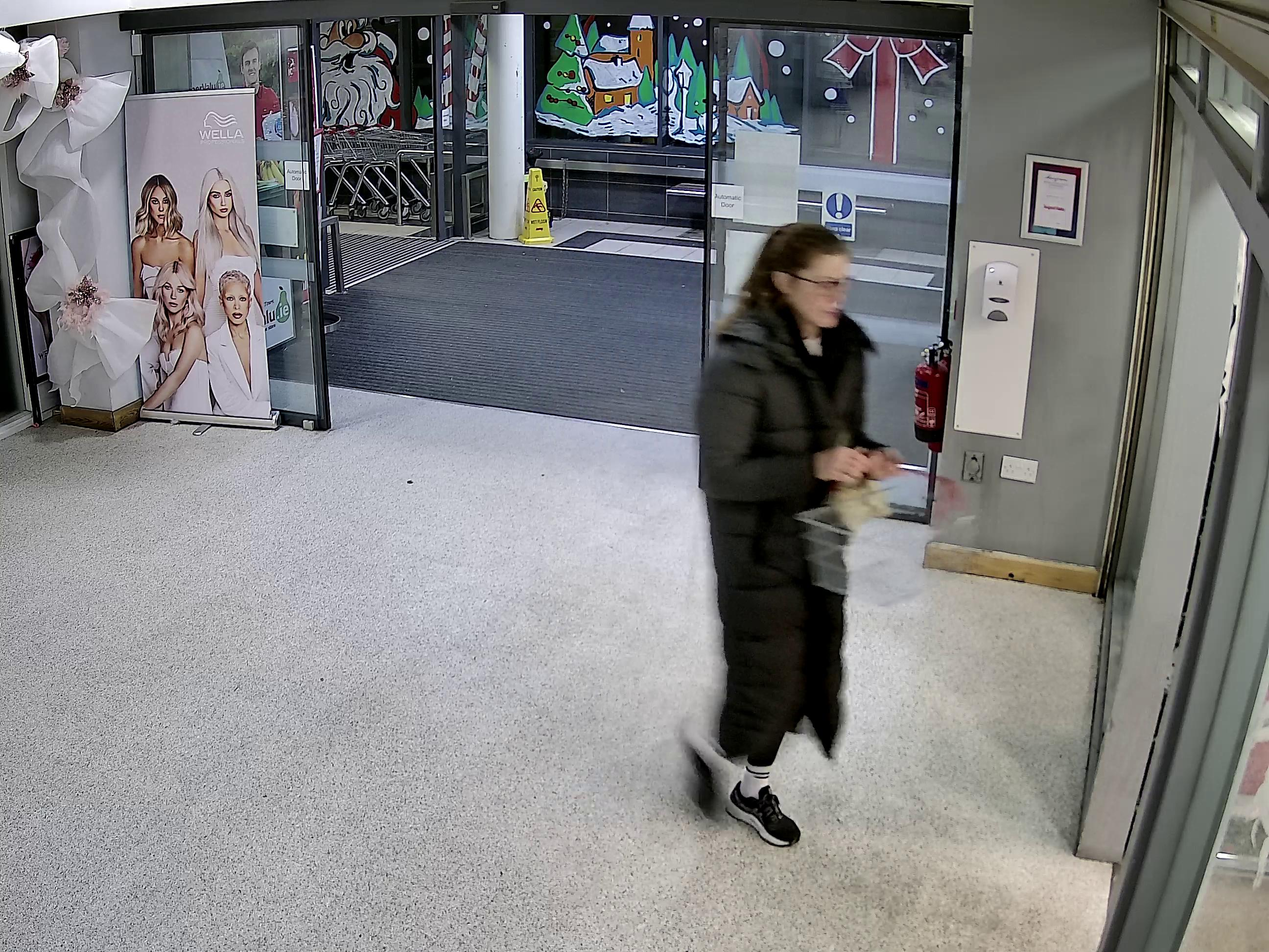empty-basket: (794, 458, 980, 610)
person: (681, 220, 900, 846)
person-with-empty-basket-trolly: (681, 220, 982, 843)
